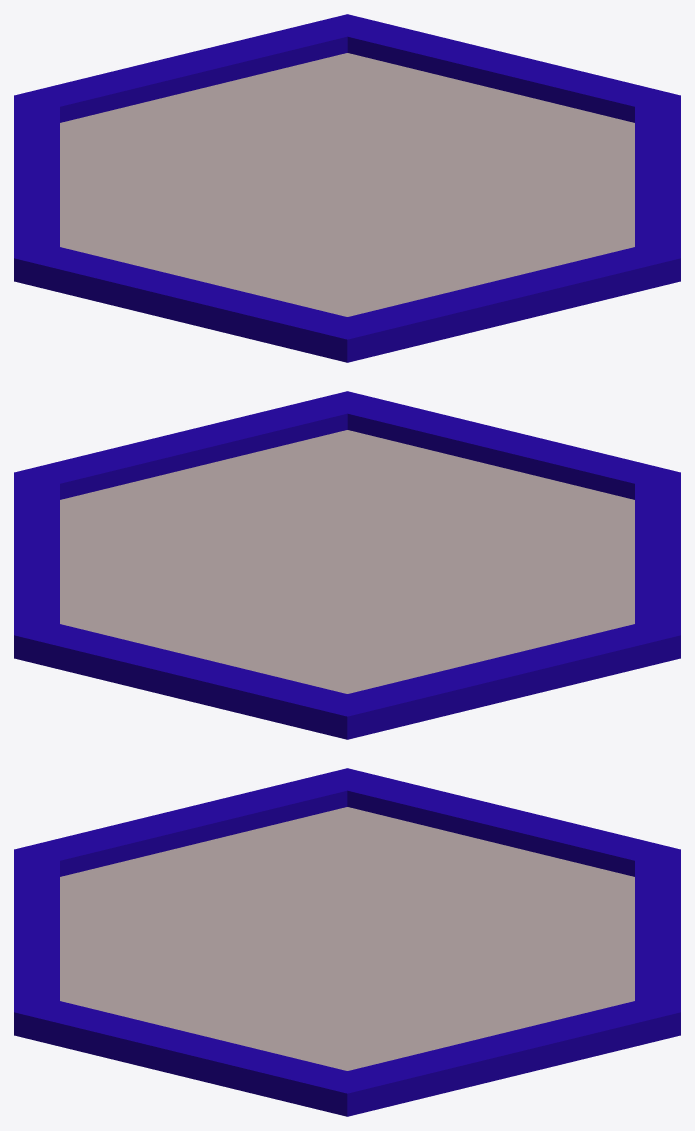
Rendered from HexCard.fbx.
3 views of the same model, one above another, from view 1: azimuth 30°, elevation 25°; view 2: azimuth 150°, elevation 25°; view 3: azimuth 270°, elevation 25° (orthographic).
Visible parts, largest first — view 1: pCylinder1; view 2: pCylinder1; view 3: pCylinder1.
Part boxes in pixels (x1,y1,x2,y2): pCylinder1: [14, 14, 680, 362]; pCylinder1: [14, 391, 680, 739]; pCylinder1: [14, 768, 680, 1116].
Size of the model in its own units: 420 by 13.95 by 364.
